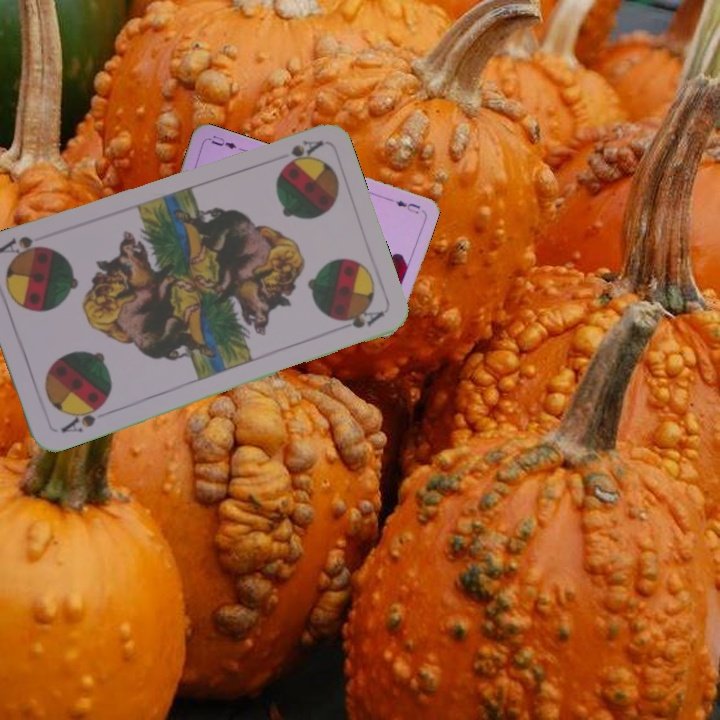EU: (384, 194, 423, 216)
SA: (57, 399, 107, 436), (279, 135, 325, 168)
